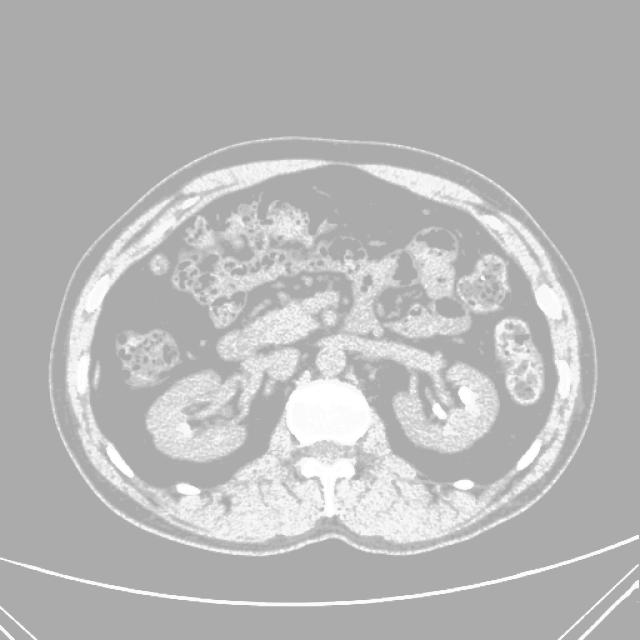STONE: (122, 284, 523, 479)
